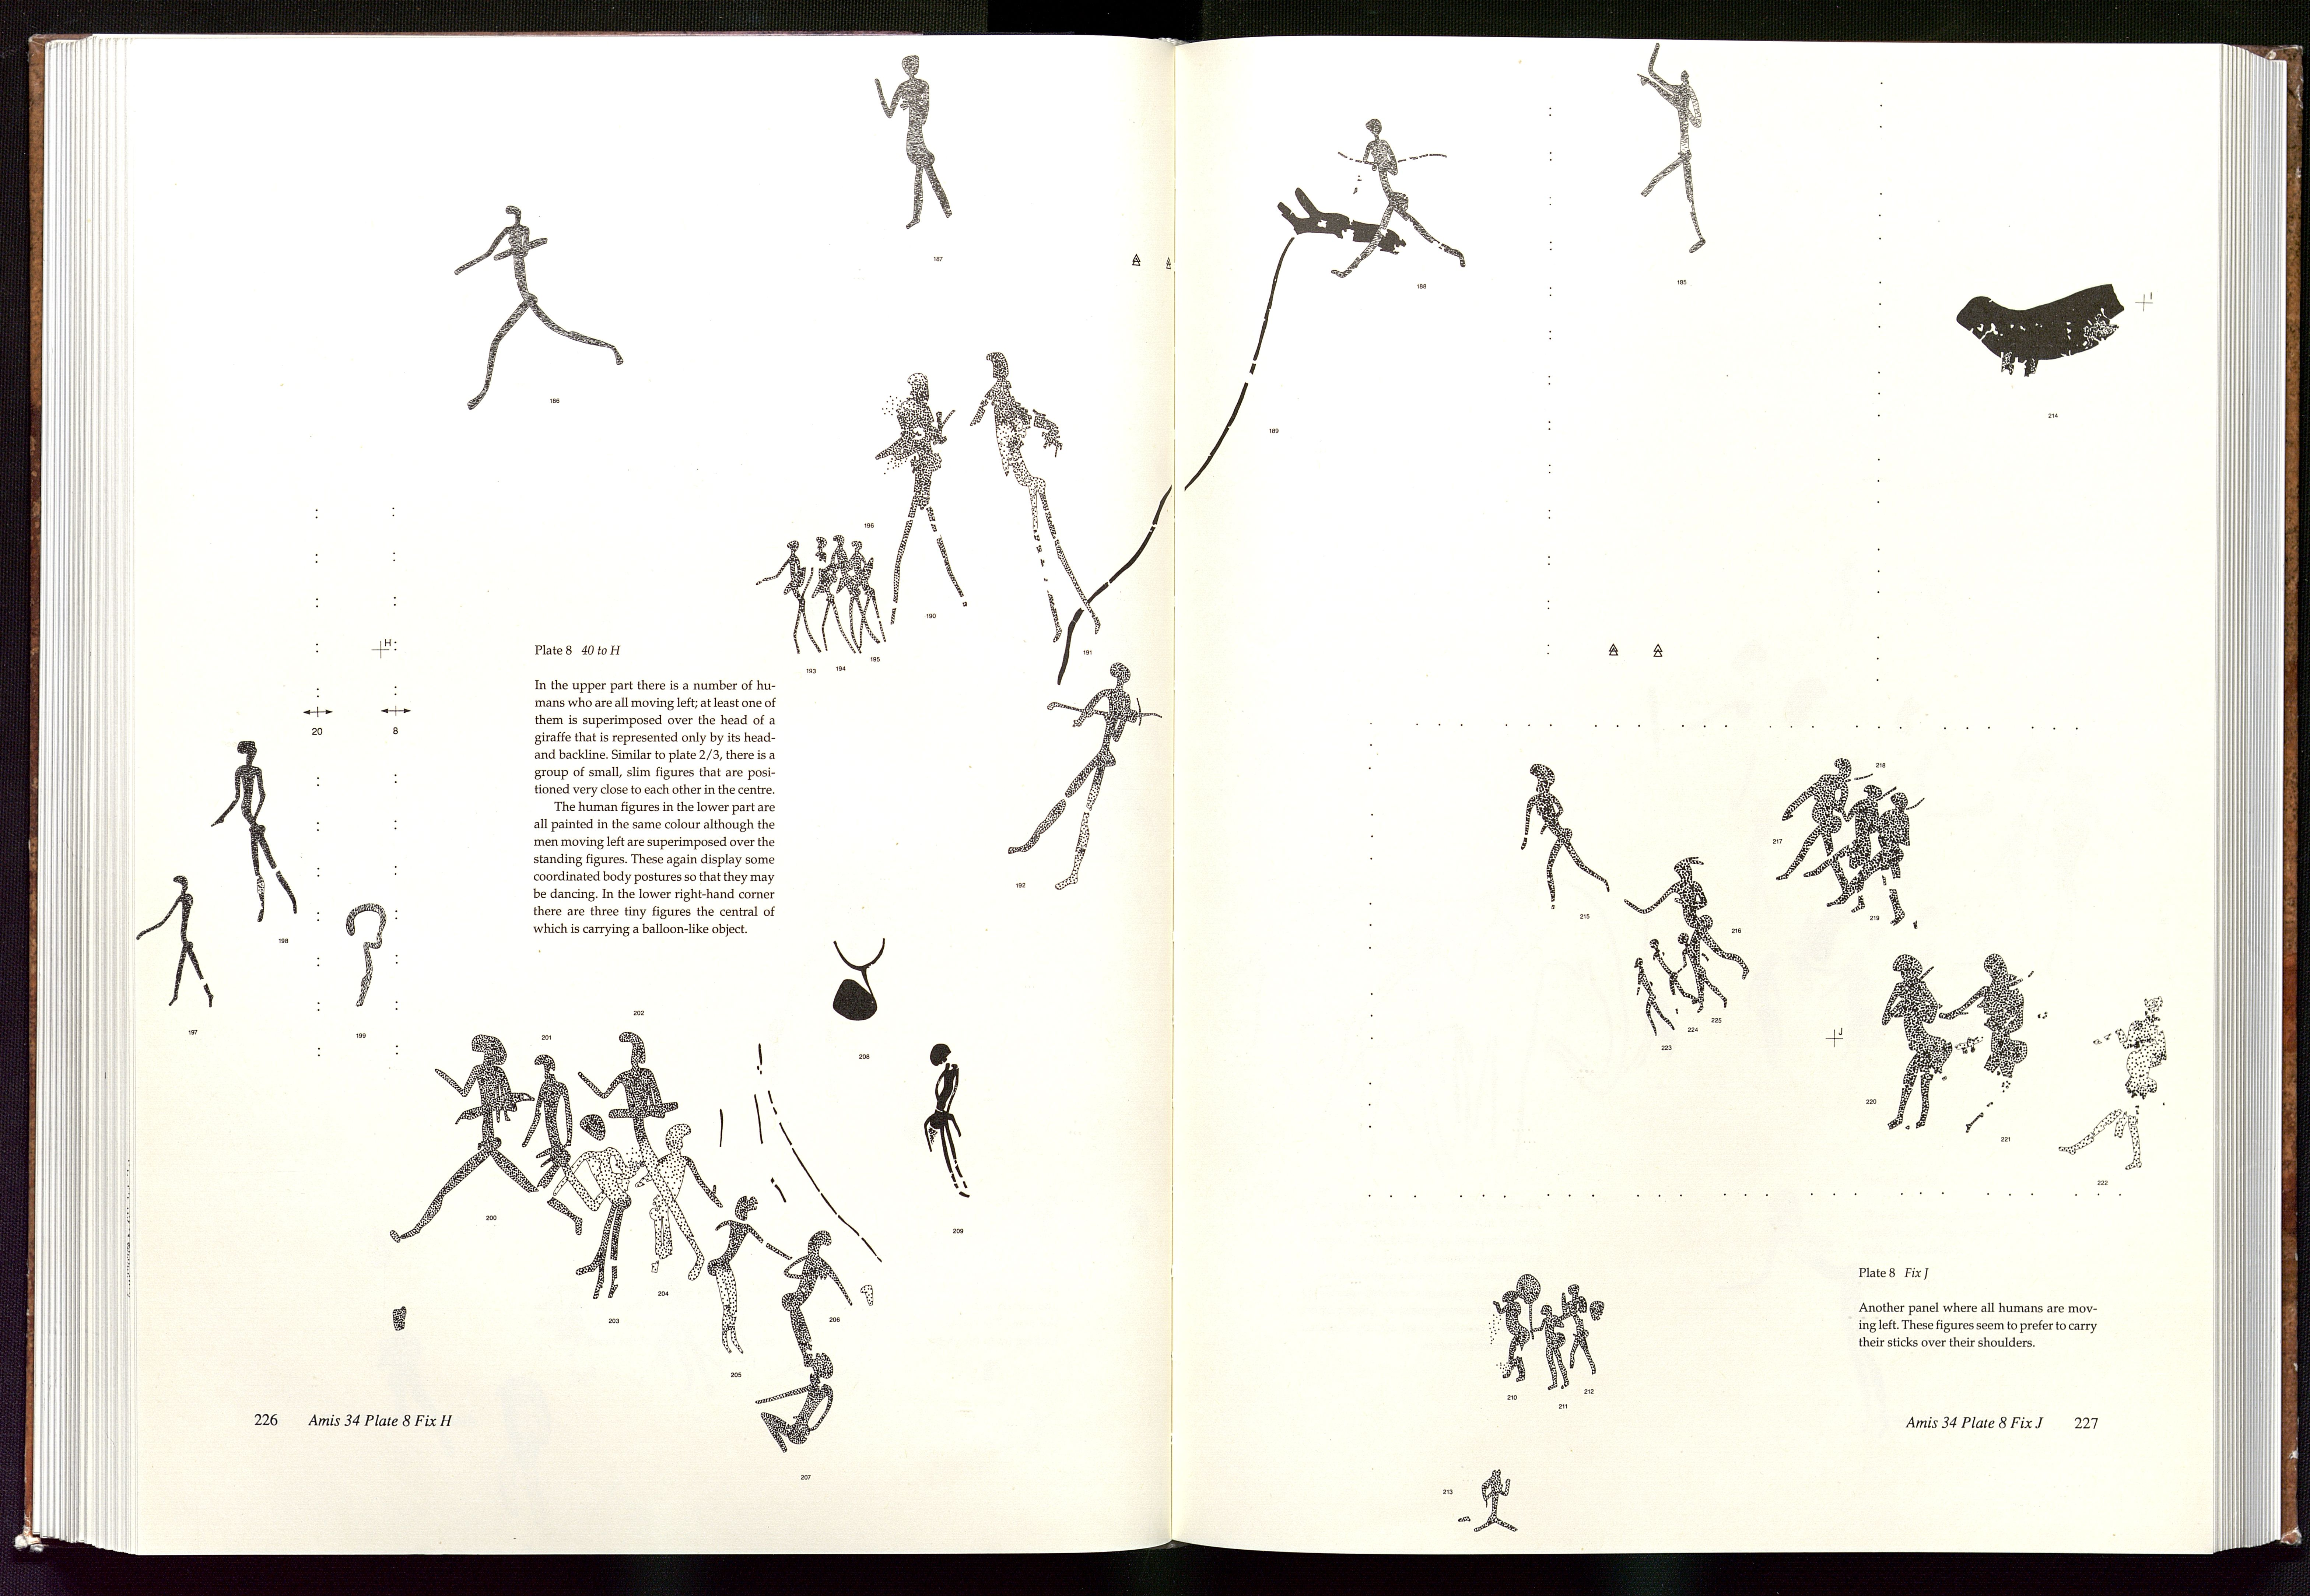human: (385, 1027, 593, 1248), (967, 347, 1112, 642), (1009, 659, 1181, 895), (451, 190, 625, 414), (576, 1030, 707, 1290), (876, 362, 972, 642), (1338, 114, 1470, 296), (2069, 986, 2185, 1189), (1627, 40, 1726, 269), (210, 728, 316, 932), (1620, 853, 1755, 1010), (623, 1108, 721, 1285), (873, 55, 962, 242), (1512, 762, 1615, 917), (697, 1192, 780, 1386), (1871, 946, 1952, 1140), (763, 1337, 866, 1474), (770, 1231, 861, 1379), (137, 865, 220, 1018), (915, 1045, 991, 1202), (1804, 779, 1890, 915), (1775, 757, 1846, 892), (761, 541, 820, 657), (1487, 1270, 1536, 1371), (1470, 1469, 1536, 1538)
